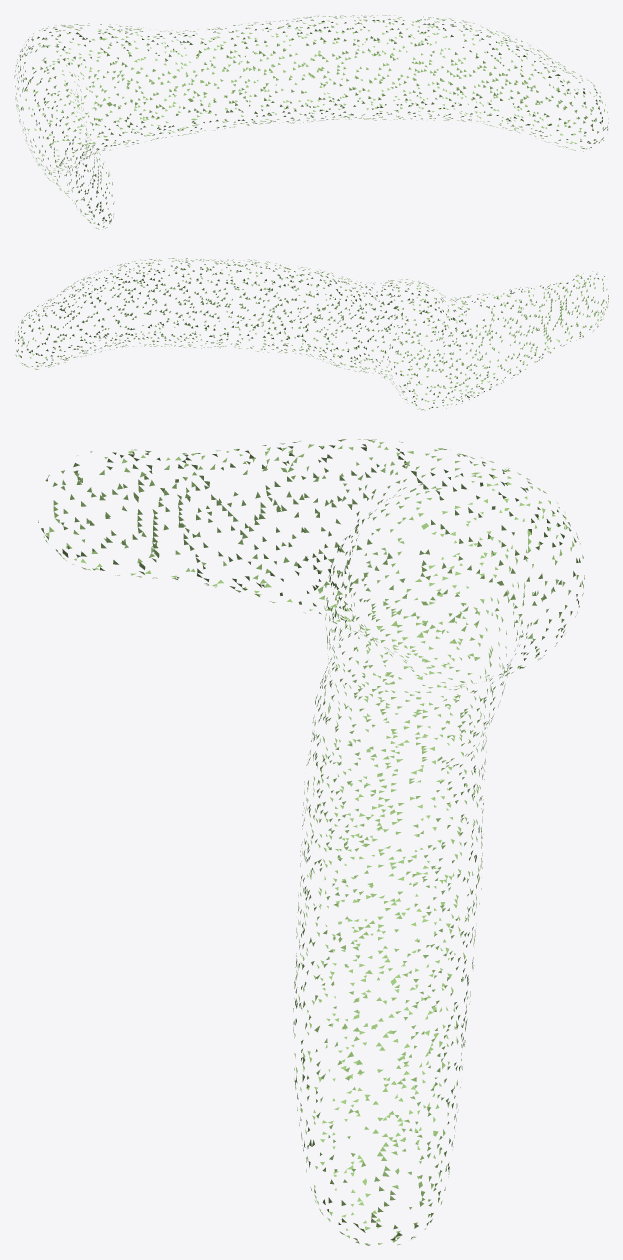
File: morph_013.glb
3 renders of one model, top to bottom at view 1: azimuth 30°, elevation 25°; view 2: azimuth 150°, elevation 25°; view 3: azimuth 270°, elevation 25°, orthographic. The views are drawn at different scales.
Bounding box in the file's own units: 136 × 47.4 × 63.5.
